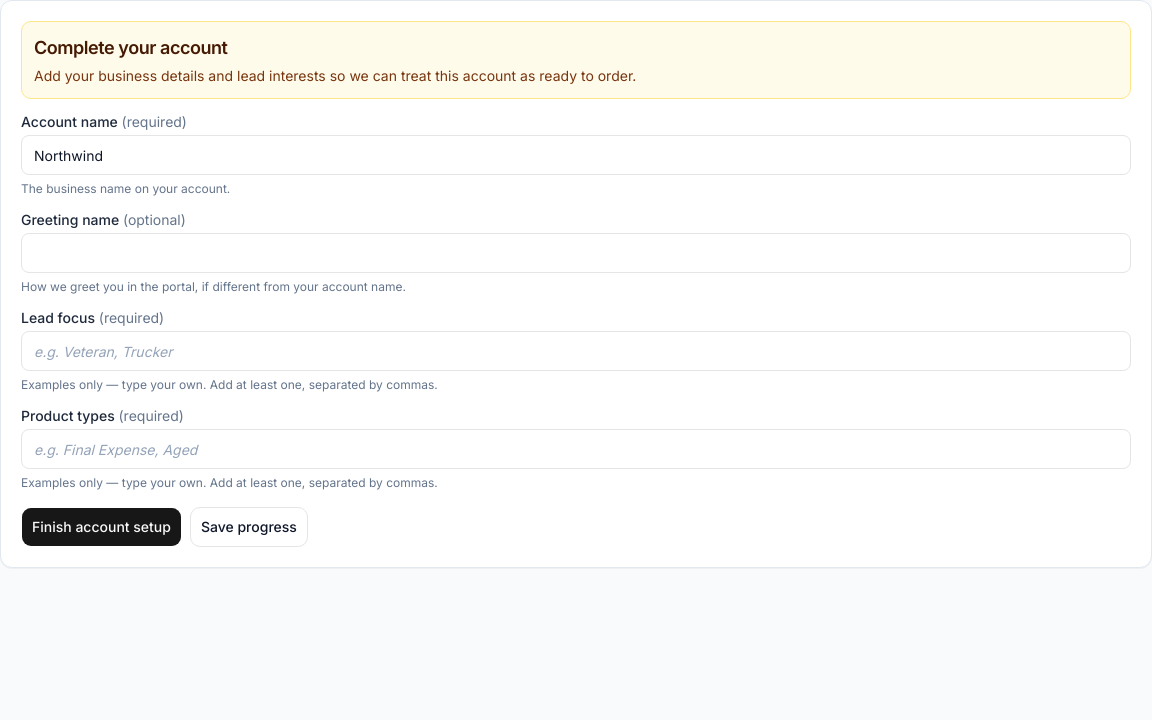
Test: save progress keeps the form and confirms the draft was stored
The image size is (1152, 720).
Click the button "Save progress". click: (249, 527)
box: [190,507,308,547]
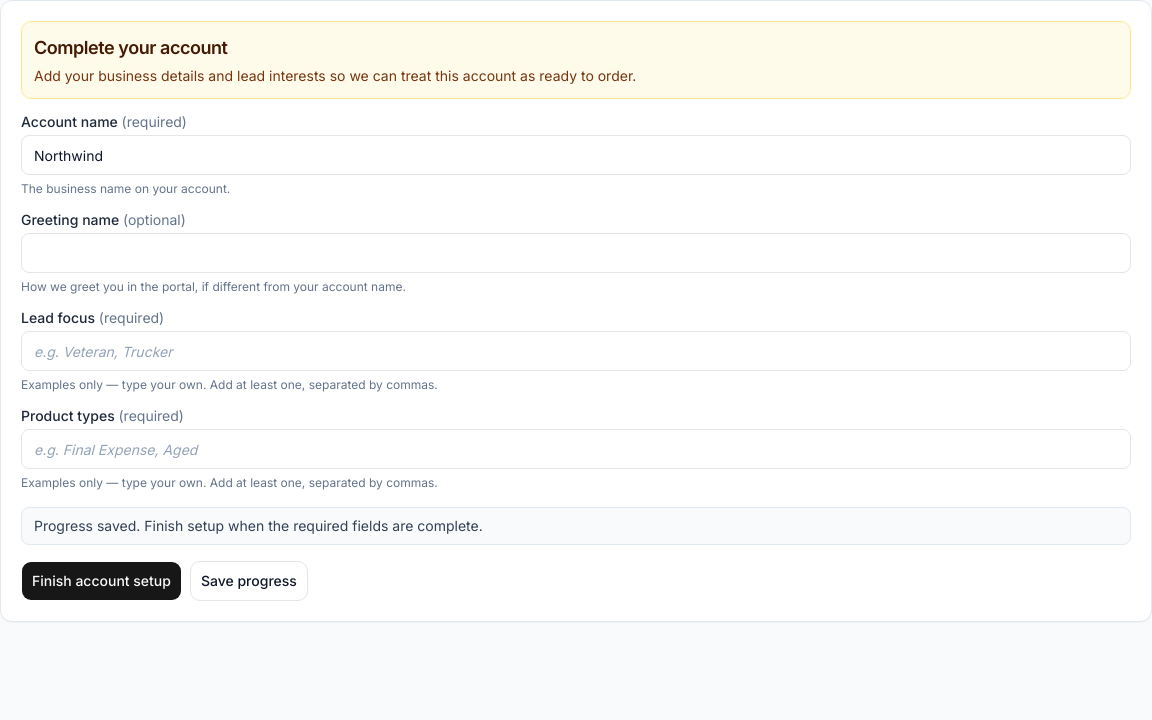
Check: the heading "Complete your account" is shown, box [34,37,228,58]
Check: the message shows "Progress saved", box [34,517,483,534]
